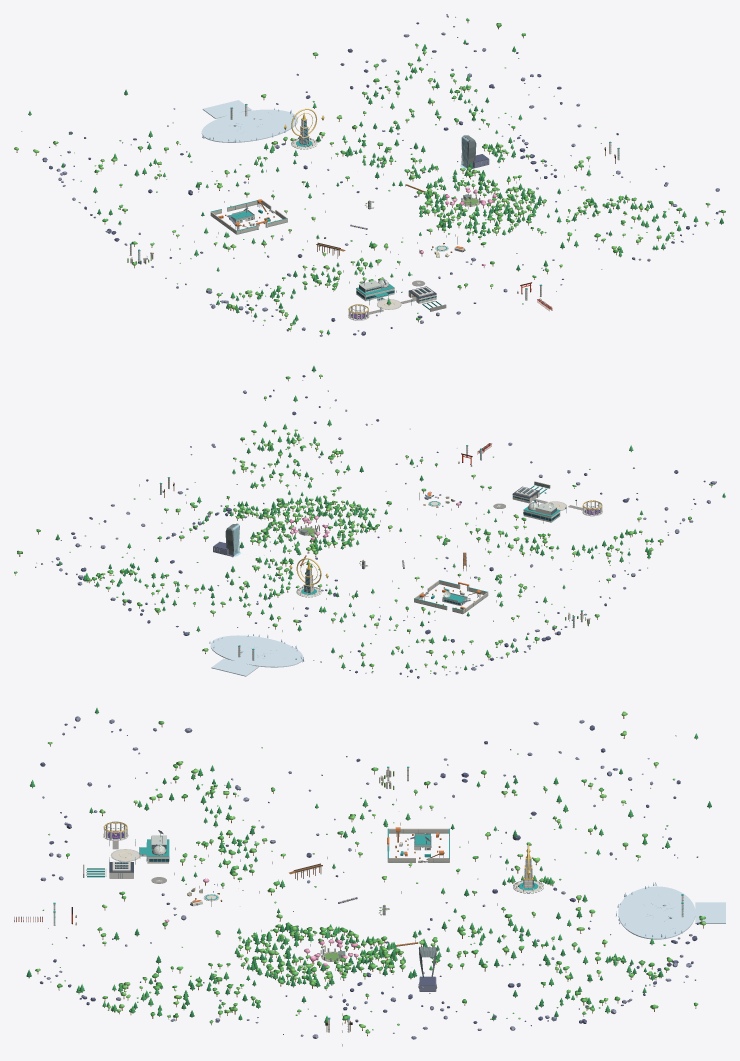
File: world_alpha.visual.glb
3 renders of one model, top to bottom at view 1: azimuth 30°, elevation 25°; view 2: azimuth 150°, elevation 25°; view 3: azimuth 270°, elevation 25°, orthographic. The views are drawn at different scales.
Visible parts, largest first — view 1: Trees_Leaves, Ice_Bay, Rocks, Campus, Trees_Trunks, Station, Cave, Seams; view 2: Trees_Leaves, Ice_Bay, Rocks, Campus, Trees_Trunks, Station, Cave; view 3: Trees_Leaves, Ice_Bay, Rocks, Campus, Trees_Trunks, Station, Seams, Cave.
Part boxes in pixels (bbox=[...]): Trees_Leaves: bbox=[14, 18, 725, 334]; Ice_Bay: bbox=[201, 100, 297, 142]; Rocks: bbox=[21, 14, 720, 336]; Campus: bbox=[348, 280, 446, 320]; Trees_Trunks: bbox=[16, 21, 723, 335]; Station: bbox=[210, 199, 287, 234]; Cave: bbox=[462, 135, 489, 168]; Seams: bbox=[127, 104, 619, 310]; Trees_Leaves: bbox=[14, 366, 725, 669]; Ice_Bay: bbox=[209, 634, 304, 676]; Rocks: bbox=[35, 375, 716, 678]; Campus: bbox=[493, 481, 602, 522]; Trees_Trunks: bbox=[15, 372, 711, 670]; Station: bbox=[414, 580, 488, 614]; Cave: bbox=[213, 523, 239, 556]; Trees_Leaves: bbox=[26, 708, 711, 1033]; Ice_Bay: bbox=[616, 882, 725, 939]; Rocks: bbox=[40, 716, 699, 1039]; Campus: bbox=[83, 822, 169, 883]; Trees_Trunks: bbox=[28, 716, 709, 1036]; Station: bbox=[387, 827, 449, 862]; Seams: bbox=[14, 766, 683, 1032]; Cave: bbox=[418, 946, 436, 991].
Size of the model in its own units: 700 by 78.8 by 721.
